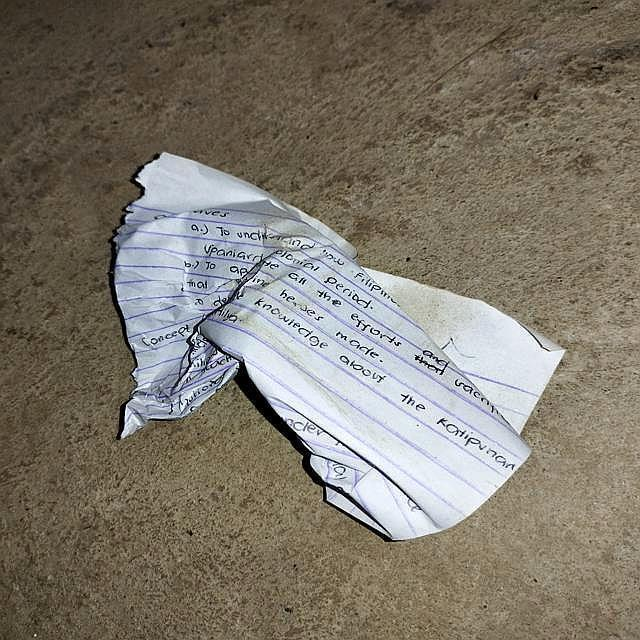Biodegradable: (66, 140, 582, 576)
